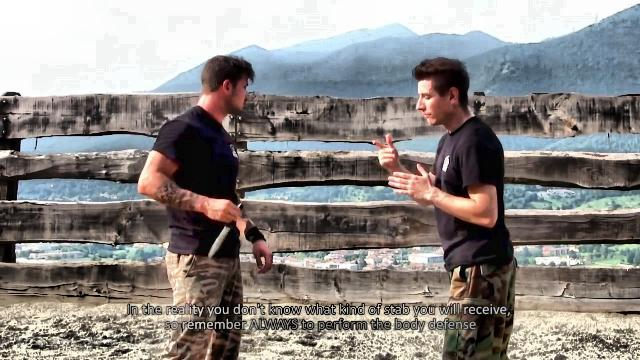knife: (204, 200, 244, 262)
